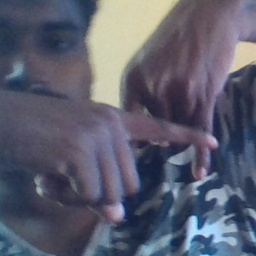H: (99, 71, 231, 191)
